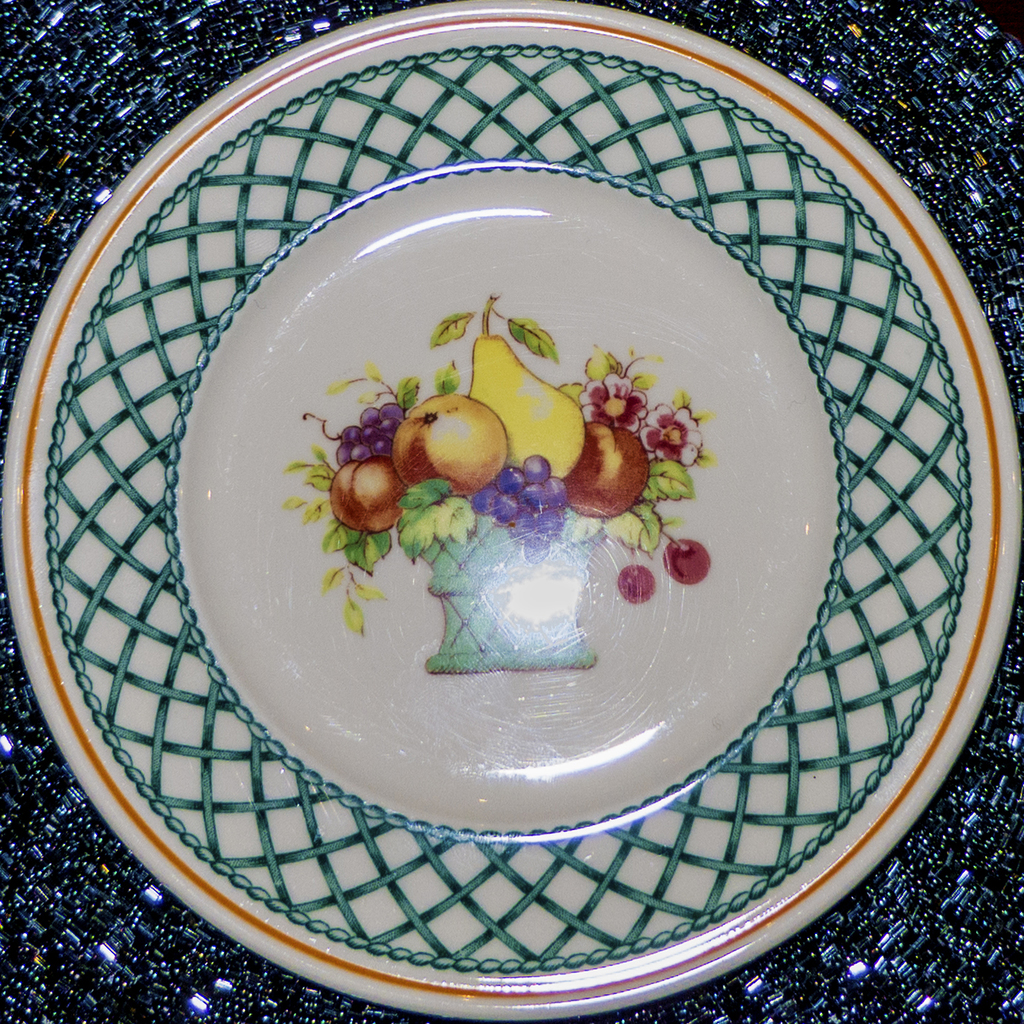plate: (0, 0, 1018, 1023)
